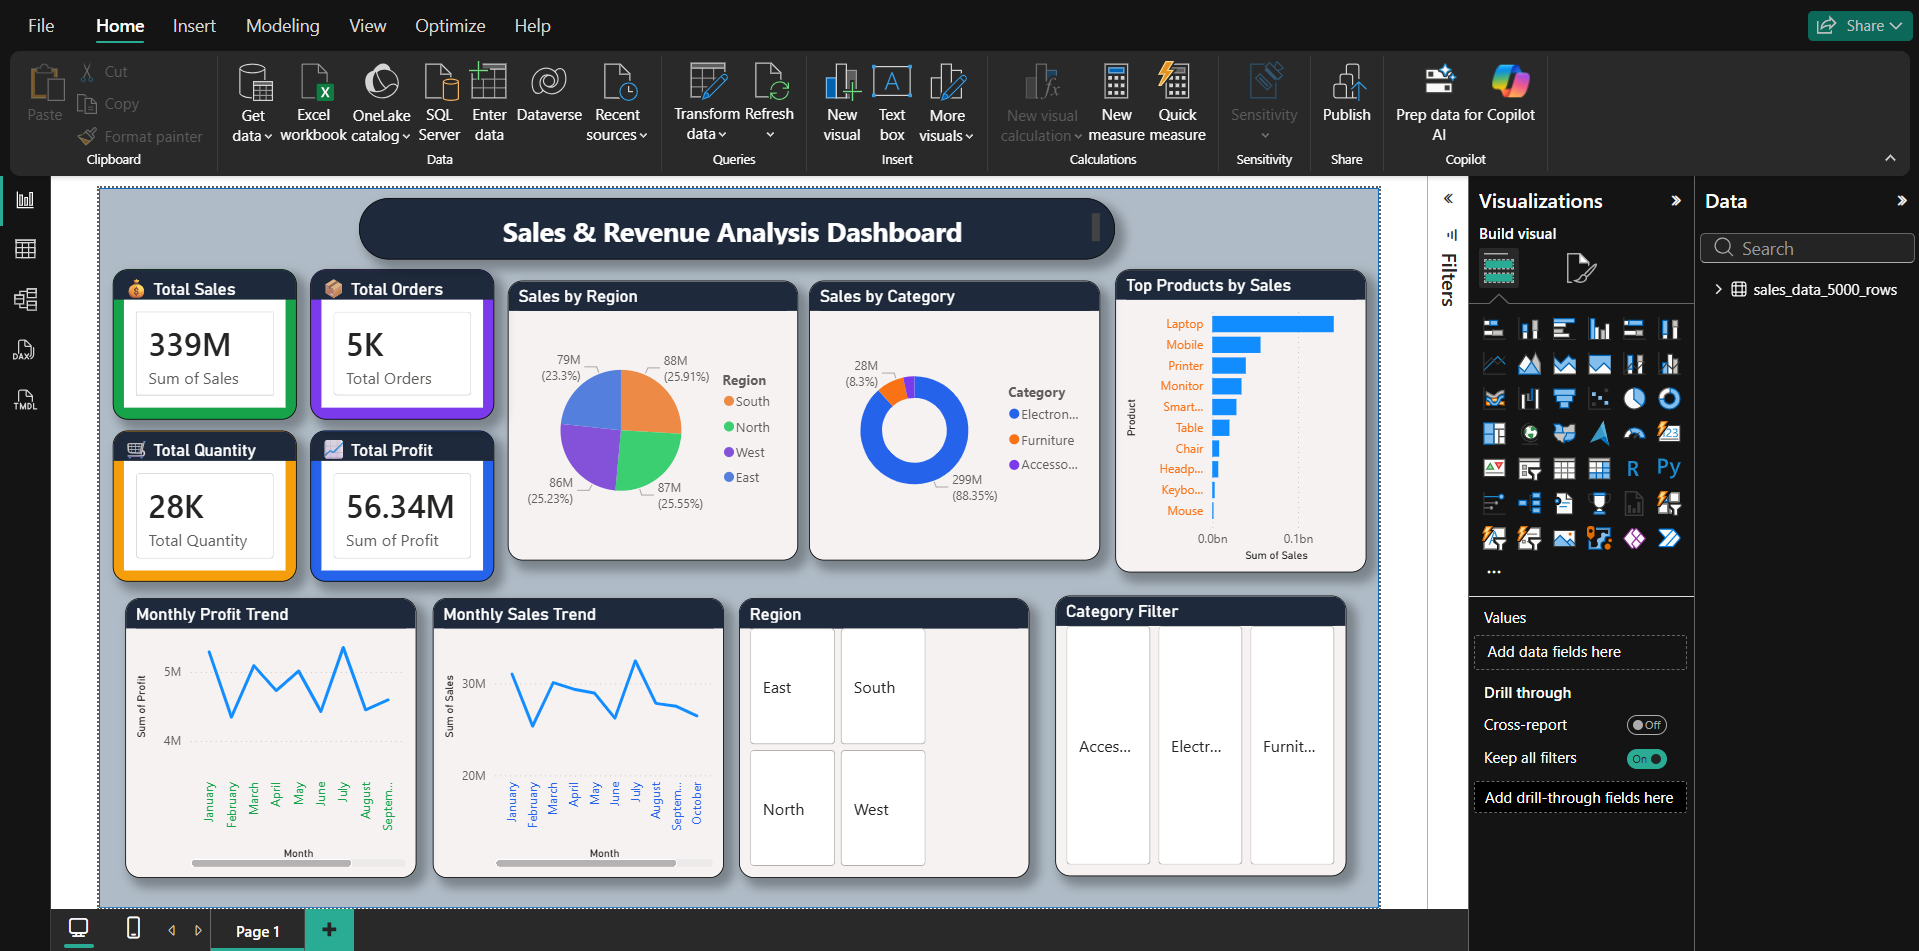

What the dashboard file says about the page in this screenshot:
{"tool":"powerbi","page":{"name":"Page 1","canvas":[1280,720],"ordinal":0},"visuals":[{"type":"shape","box":[0,0,1280,720],"z":0},{"type":"cardVisual","title":"💰 Total Sales","fields":{"Data":["Sum(sales_data_5000_rows.Sales)","Sum(sales_data_5000_rows.Sales)"]},"box":[14.3,71.4,184.3,150],"z":1000},{"type":"cardVisual","title":"📈 Total Profit","fields":{"Data":["Sum(sales_data_5000_rows.Profit)"]},"box":[210,232.9,184.3,151.4],"z":2000},{"type":"clusteredBarChart","title":"Top Products by Sales","fields":{"Category":["sales_data_5000_rows.Product"],"Y":["Sum(sales_data_5000_rows.Sales)"]},"box":[1015.7,81.4,251.4,302.9],"z":3000},{"type":"pieChart","title":"Sales by Region","fields":{"Category":["sales_data_5000_rows.Region"],"Y":["Sum(sales_data_5000_rows.Sales)"]},"box":[961.4,408.6,291.4,280],"z":4000},{"type":"donutChart","title":"Sales by Category","fields":{"Category":["sales_data_5000_rows.Category"],"Y":["Sum(sales_data_5000_rows.Sales)"]},"box":[27.1,408.6,291.4,280],"z":5000},{"type":"lineChart","title":"Monthly Sales Trend","fields":{"Category":["sales_data_5000_rows.Order_Date.Variation.Date Hierarchy.Month"],"Y":["Sum(sales_data_5000_rows.Sales)"]},"box":[408.6,92.9,291.4,280],"z":6000},{"type":"advancedSlicerVisual","title":"Category Filter","fields":{"Values":["sales_data_5000_rows.Category"]},"box":[650,408.6,291.4,280],"z":7000},{"type":"advancedSlicerVisual","fields":{"Values":["sales_data_5000_rows.Region"]},"box":[337.1,408.6,291.4,280],"z":8000},{"type":"lineChart","title":"Monthly Profit Trend","fields":{"Category":["sales_data_5000_rows.Order_Date.Variation.Date Hierarchy.Month"],"Y":["Sum(sales_data_5000_rows.Profit)"]},"box":[710,92.9,291.4,280],"z":9000},{"type":"cardVisual","title":"📦 Total Orders","fields":{"Data":["sales_data_5000_rows.Total Orders"]},"box":[211.4,71.4,184.3,150],"z":10000},{"type":"cardVisual","title":"🛒 Total Quantity","fields":{"Data":["sales_data_5000_rows.Total Quantity"]},"box":[14.3,232.9,184.3,151.4],"z":11000},{"type":"textbox","title":"Sales & Revenue Analysis Dashboard","box":[287.4,10,743.9,42.3],"z":12000}]}

Visuals, with their boxes on the page's 1280x720 design canvas (x1, y1, x2, y2). These are canvas units, not pixel positions in the 1919x951 screenshot, which may show the page scaled, cropped or inside an application window:
shape: 0,0,1280,720
"💰 Total Sales" cardVisual: 14,71,199,221
"📈 Total Profit" cardVisual: 210,233,394,384
"Top Products by Sales" clusteredBarChart: 1016,81,1267,384
"Sales by Region" pieChart: 961,409,1253,689
"Sales by Category" donutChart: 27,409,318,689
"Monthly Sales Trend" lineChart: 409,93,700,373
"Category Filter" advancedSlicerVisual: 650,409,941,689
advancedSlicerVisual - sales_data_5000_rows.Region: 337,409,628,689
"Monthly Profit Trend" lineChart: 710,93,1001,373
"📦 Total Orders" cardVisual: 211,71,396,221
"🛒 Total Quantity" cardVisual: 14,233,199,384
"Sales & Revenue Analysis Dashboard" textbox: 287,10,1031,52
